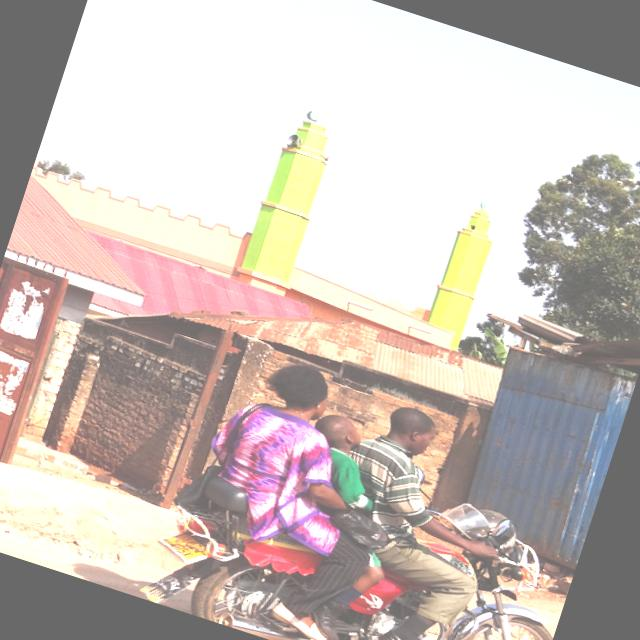Vehicle: (132, 410, 585, 640)
